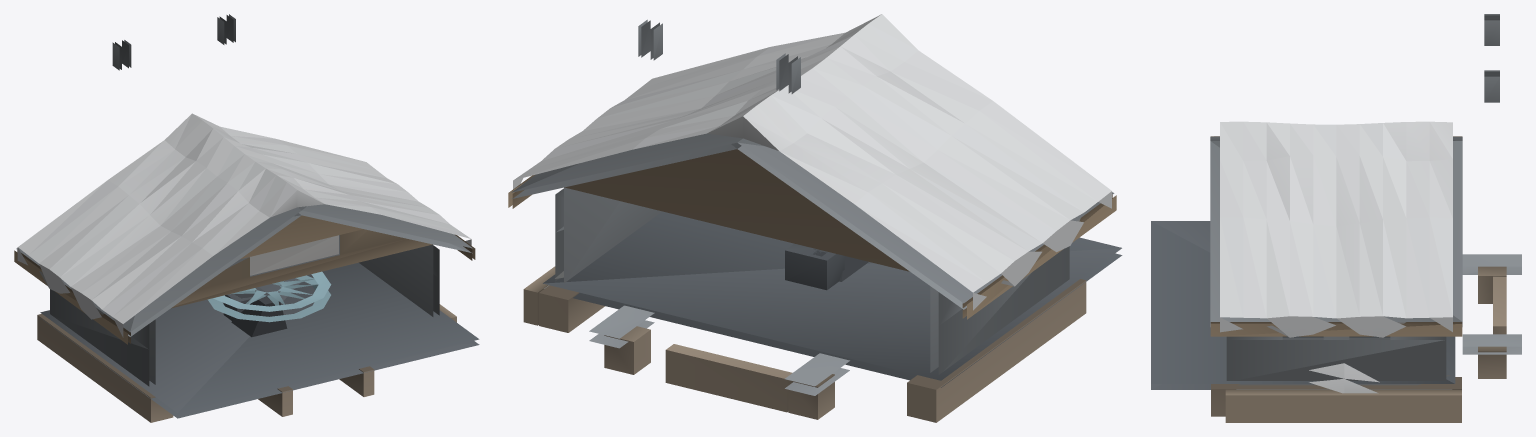
The picture shows the model from 3 angles, left to right: view 1: azimuth 30°, elevation 25°; view 2: azimuth 150°, elevation 25°; view 3: azimuth 270°, elevation 25°; orthographic projection. The views are drawn at different scales.
Visible parts, largest first — view 1: base; view 2: base; view 3: base.
Boxes of the visible parts, left/top/right/bottom form: base: left=14, top=14, right=479, bottom=422; base: left=508, top=14, right=1122, bottom=422; base: left=1151, top=14, right=1521, bottom=422.
Bounding box in the file's own units: 15 × 10.79 × 12.5.
